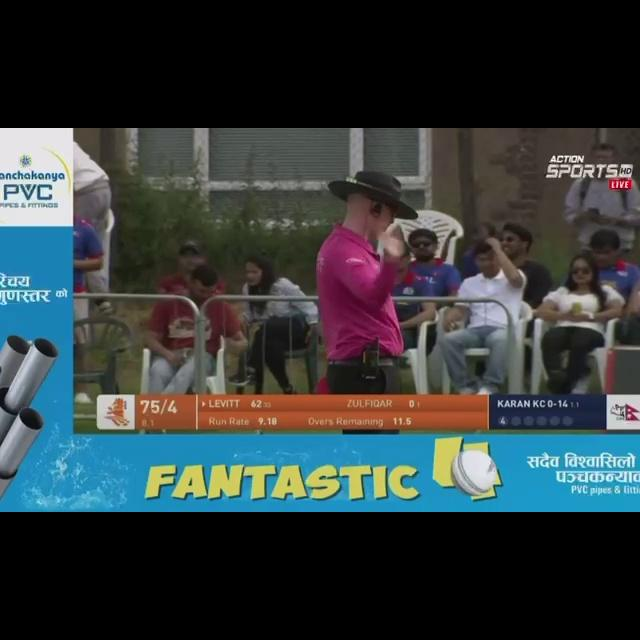umpire: (253, 143, 478, 393)
